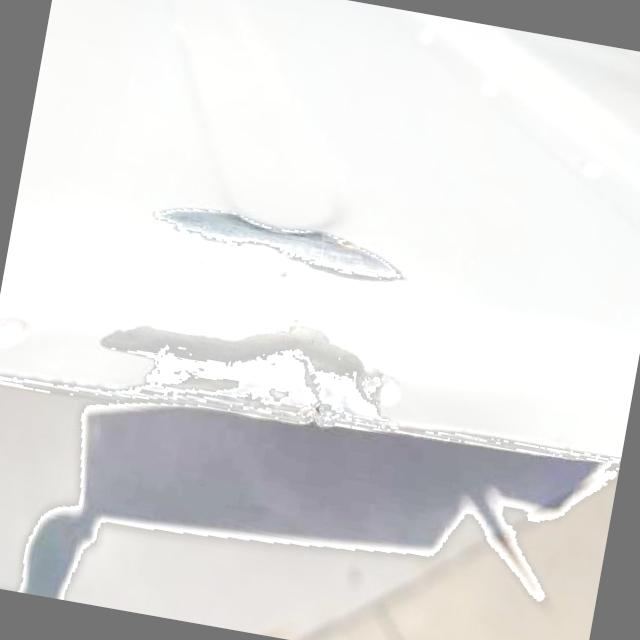crack: (258, 352, 340, 426)
